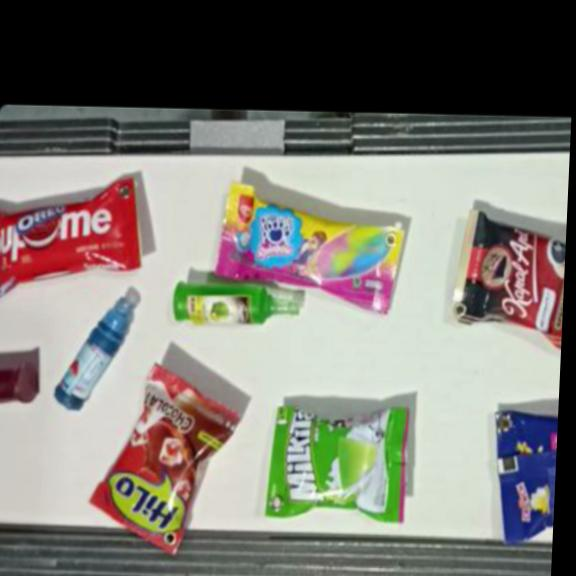Plastik: (87, 360, 240, 556), (213, 181, 406, 313), (0, 175, 146, 305), (266, 406, 409, 521), (453, 207, 567, 347), (52, 293, 136, 411), (486, 409, 558, 546), (168, 280, 298, 323), (0, 362, 42, 405)
